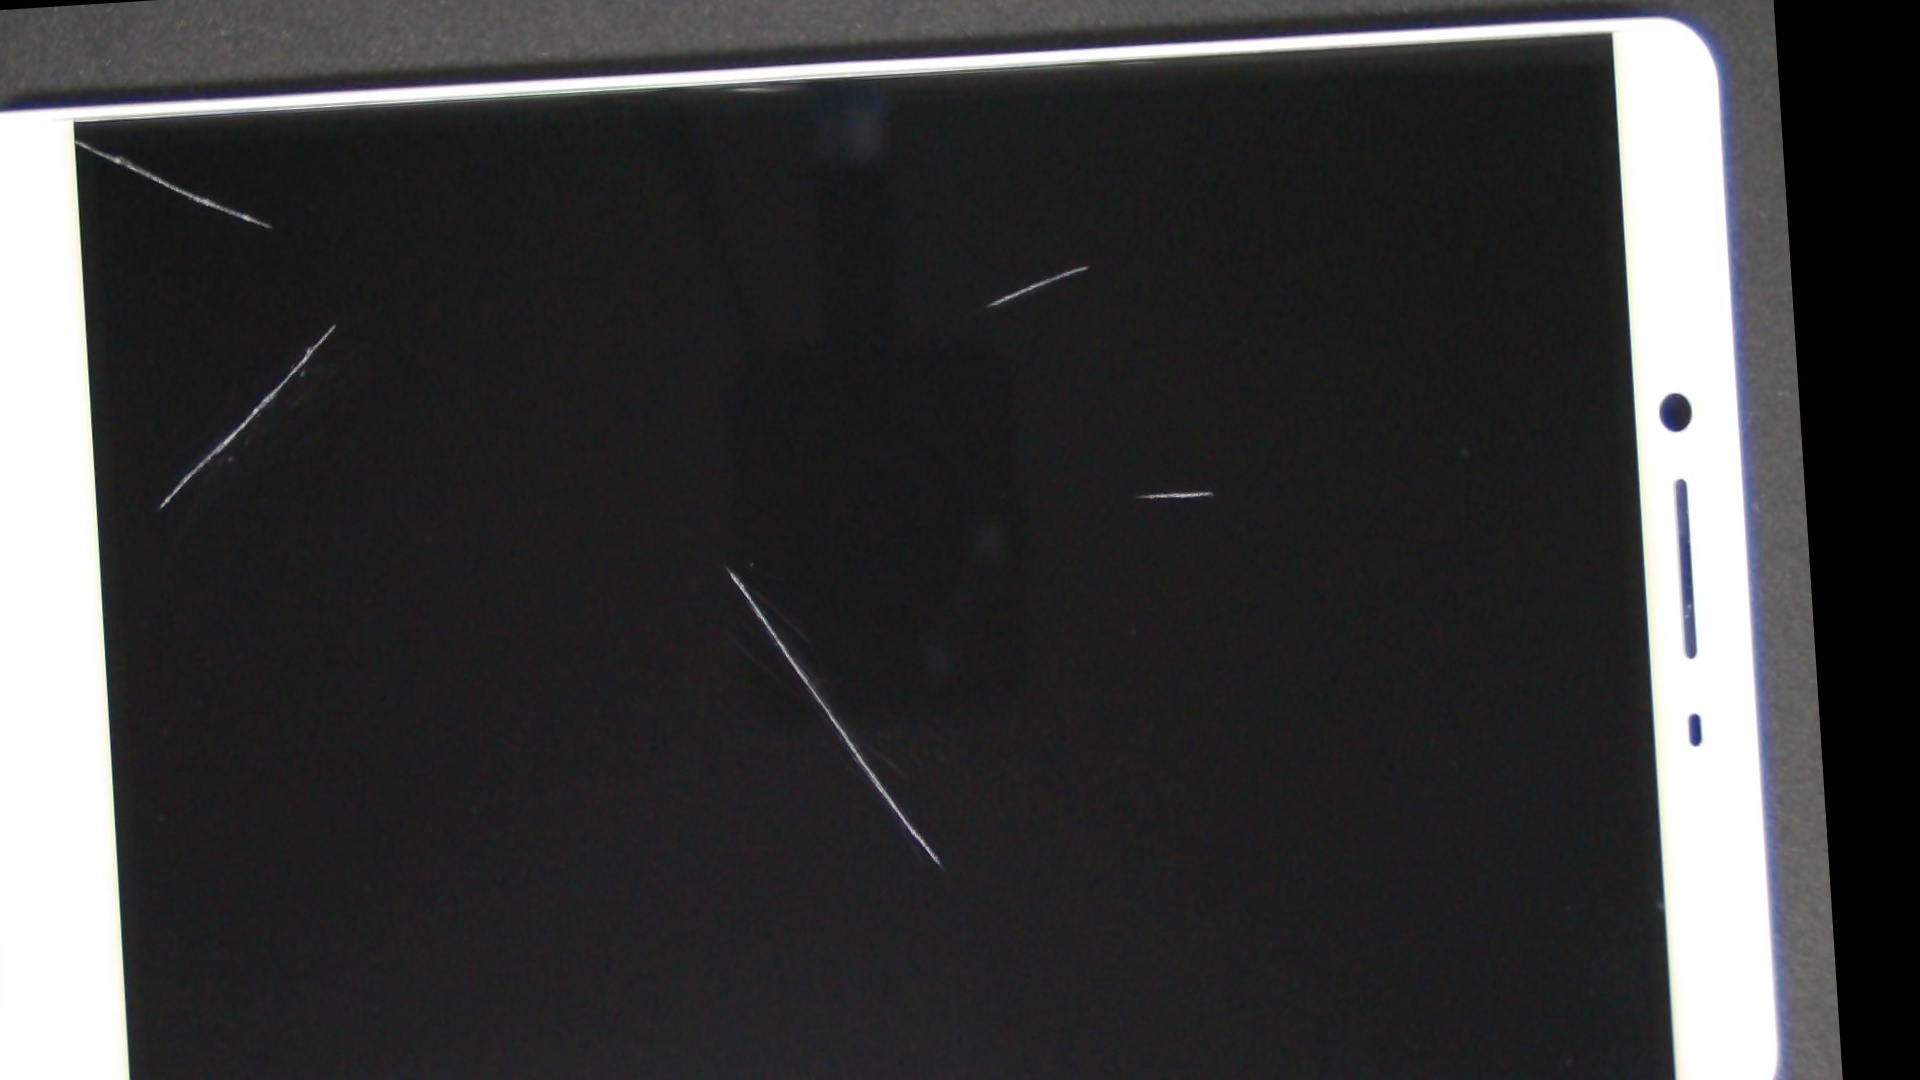oil: (517, 177, 1762, 810), (310, 240, 1142, 891), (491, 66, 1680, 464), (115, 142, 556, 502), (0, 67, 167, 212)
